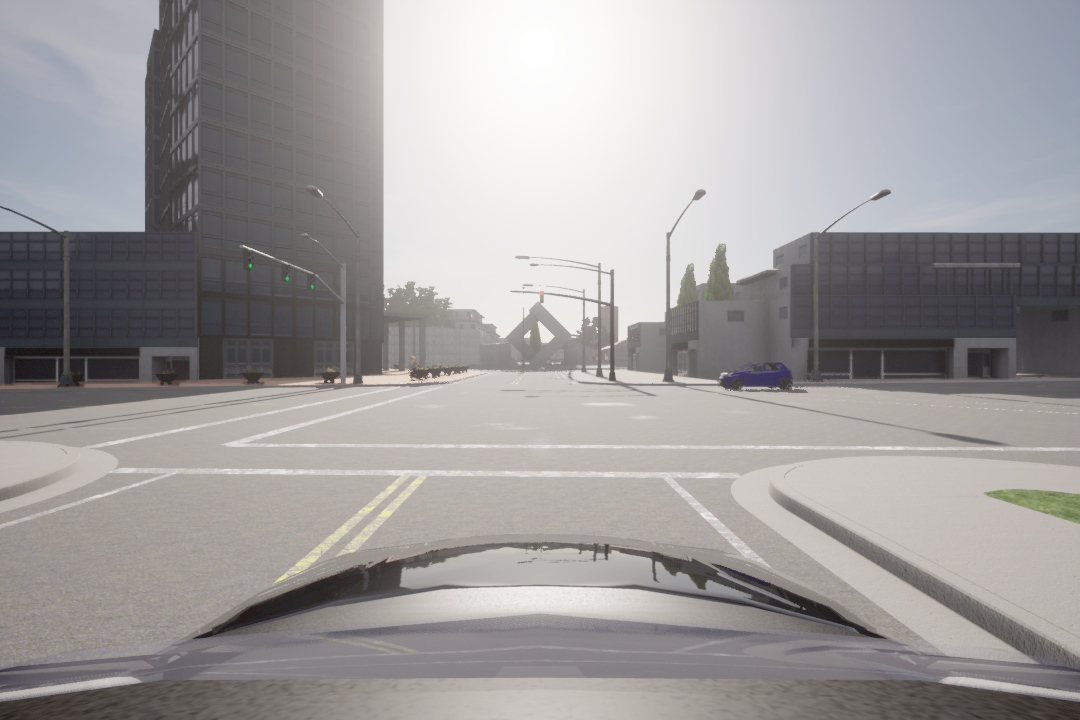TrafficLight: (241, 245, 254, 273), (279, 261, 294, 284), (306, 270, 317, 291), (536, 289, 548, 308)
